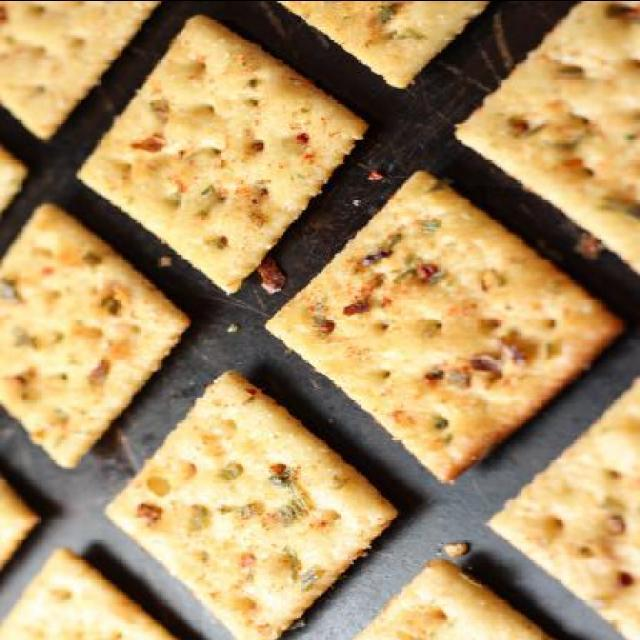Cracker packaged: (258, 162, 604, 480), (64, 14, 373, 298), (97, 369, 406, 640)
